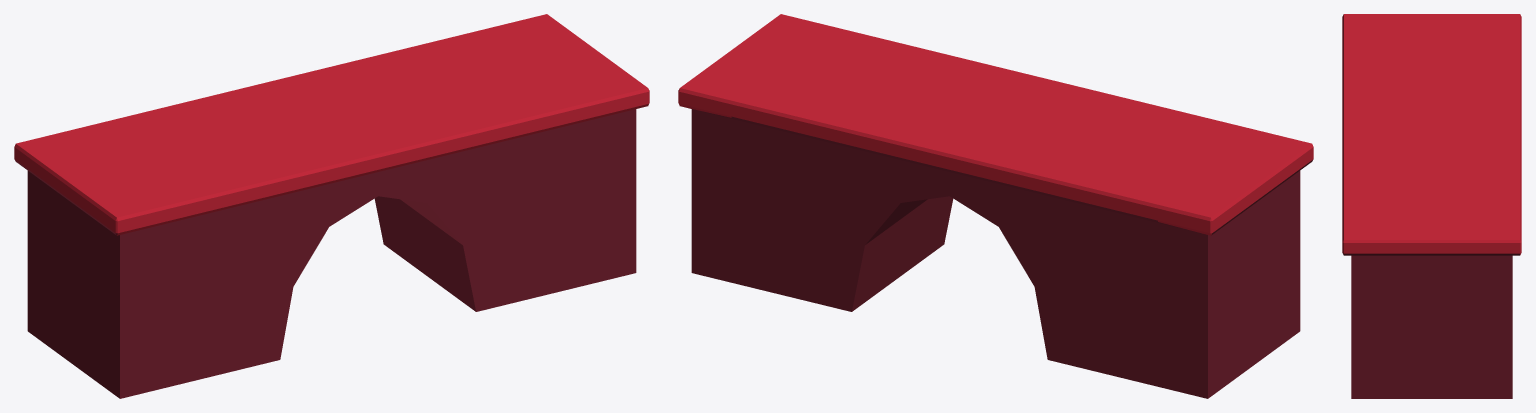
Rendered from ark_top_001_msh.fbx.
3 renders of one model, left to right at view 1: azimuth 30°, elevation 25°; view 2: azimuth 150°, elevation 25°; view 3: azimuth 270°, elevation 25°, orthographic. The views are drawn at different scales.
Parts seen in each view (by area): view 1: ark_top_001_msh; view 2: ark_top_001_msh; view 3: ark_top_001_msh.
Part boxes in pixels (left/top/right/bottom): ark_top_001_msh: left=14, top=14, right=649, bottom=398; ark_top_001_msh: left=678, top=14, right=1313, bottom=398; ark_top_001_msh: left=1342, top=14, right=1521, bottom=398.
Bounding box in the file's own units: 600 × 200 × 200.
